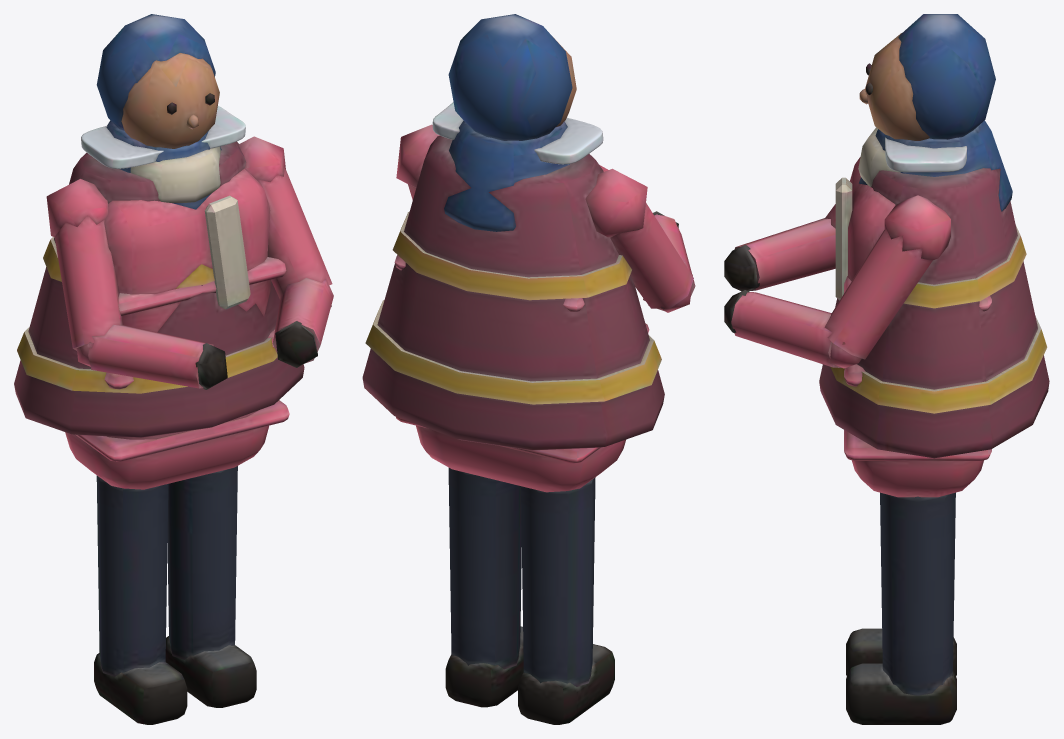
The model's file is citizen_mom.glb.
3 renders of one model, left to right at view 1: azimuth 30°, elevation 25°; view 2: azimuth 150°, elevation 25°; view 3: azimuth 270°, elevation 25°, orthographic. The views are drawn at different scales.
Parts seen in each view (by area): view 1: citizen_mom; view 2: citizen_mom; view 3: citizen_mom.
Boxes of the visible parts, x1,y1,x2,y2 form: citizen_mom: [14, 14, 333, 724]; citizen_mom: [362, 14, 695, 724]; citizen_mom: [724, 14, 1049, 724].
Bounding box in the file's own units: 0.7789 × 1.84 × 0.7914.
1 material, 1 textured.
